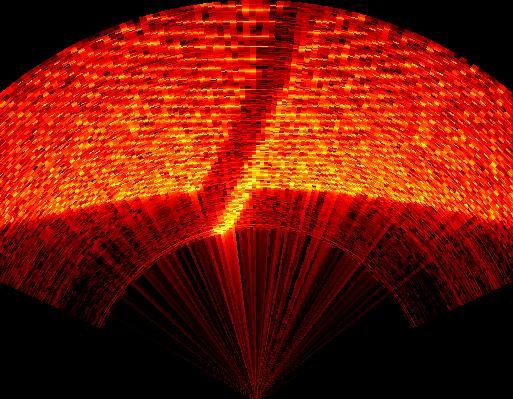pipe: (193, 2, 318, 226)
